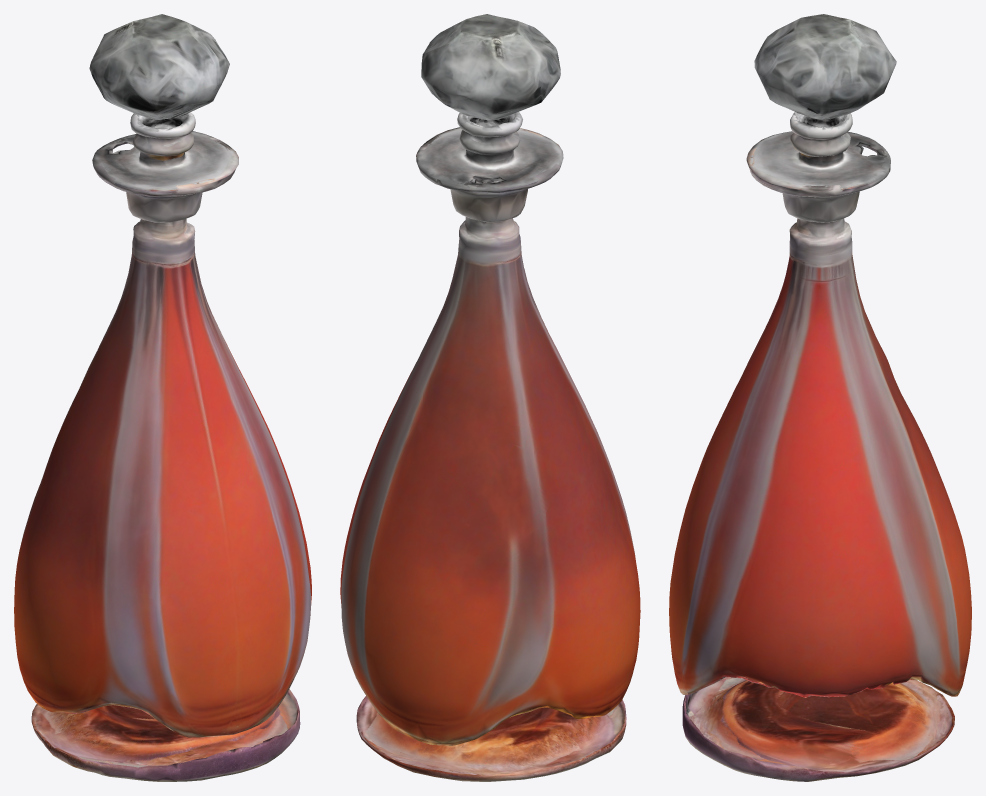
Rendered from perfume.glb.
The picture shows the model from 3 angles, left to right: view 1: azimuth 30°, elevation 25°; view 2: azimuth 150°, elevation 25°; view 3: azimuth 270°, elevation 25°; orthographic projection.
Size of the model in its own units: 0.7768 by 2 by 0.784.
1 material, 1 textured.
